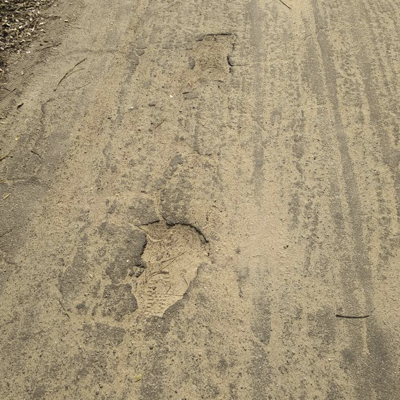pothole: (124, 215, 213, 321), (185, 31, 239, 85)
